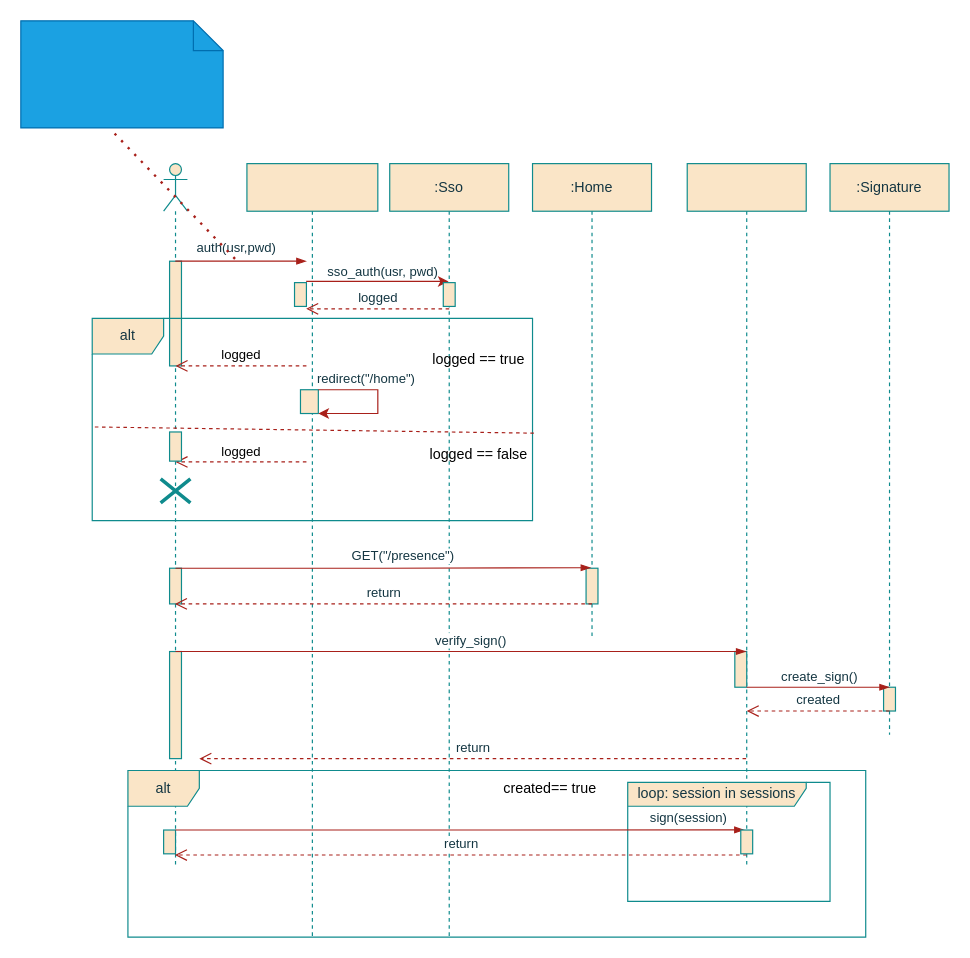
Some shapes in this 970 by 958 pixel diagram are drawn without their labels. Each missing label, with the box of its shape:
:Auth: (246, 162, 378, 937)
:Presence: (686, 162, 806, 866)
Auth::auth(usr, pwd) c'est la classe de destination qui exécute le message: (20, 20, 223, 128)
